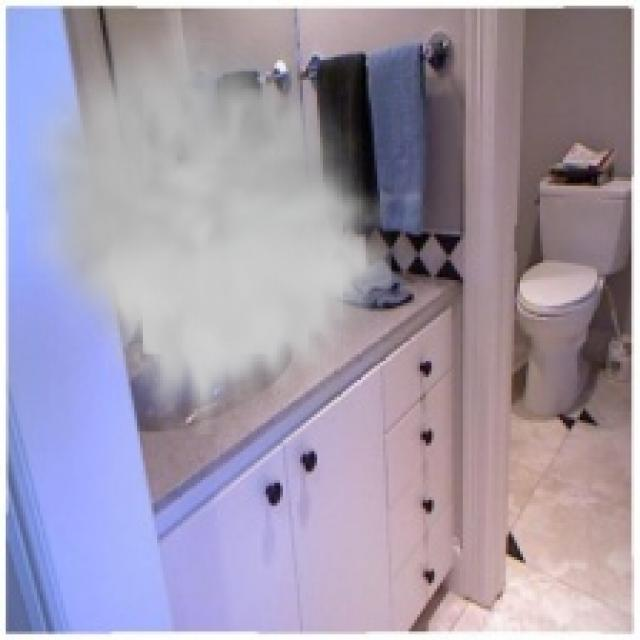smoke: (26, 12, 391, 434)
